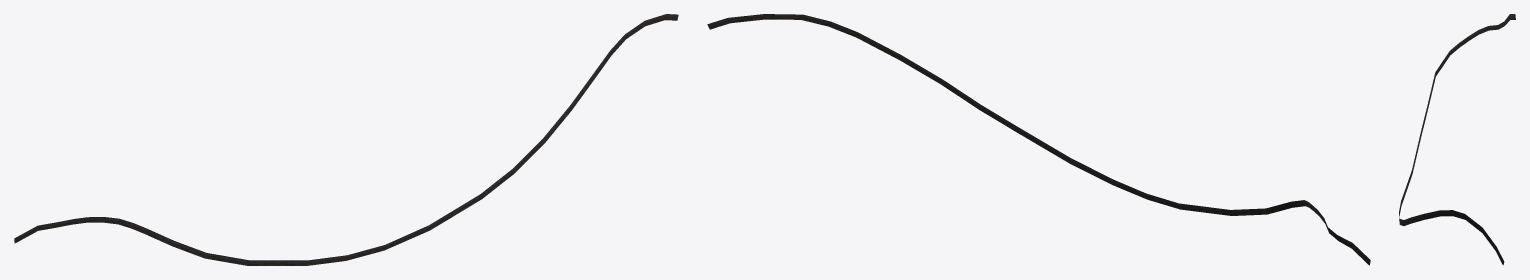
Rendered from trunk002.FBX.
The picture shows the model from 3 angles, left to right: view 1: azimuth 30°, elevation 25°; view 2: azimuth 150°, elevation 25°; view 3: azimuth 270°, elevation 25°; orthographic projection. The views are drawn at different scales.
Visible parts, largest first — view 1: dcsg_model_03_st_01; view 2: dcsg_model_03_st_01; view 3: dcsg_model_03_st_01.
Boxes of the visible parts, x1=… form: dcsg_model_03_st_01: x1=14, y1=14, x2=678, y2=265; dcsg_model_03_st_01: x1=707, y1=14, x2=1370, y2=265; dcsg_model_03_st_01: x1=1399, y1=14, x2=1515, y2=265.
Size of the model in its own units: 13.41 by 2.51 by 2.12.
